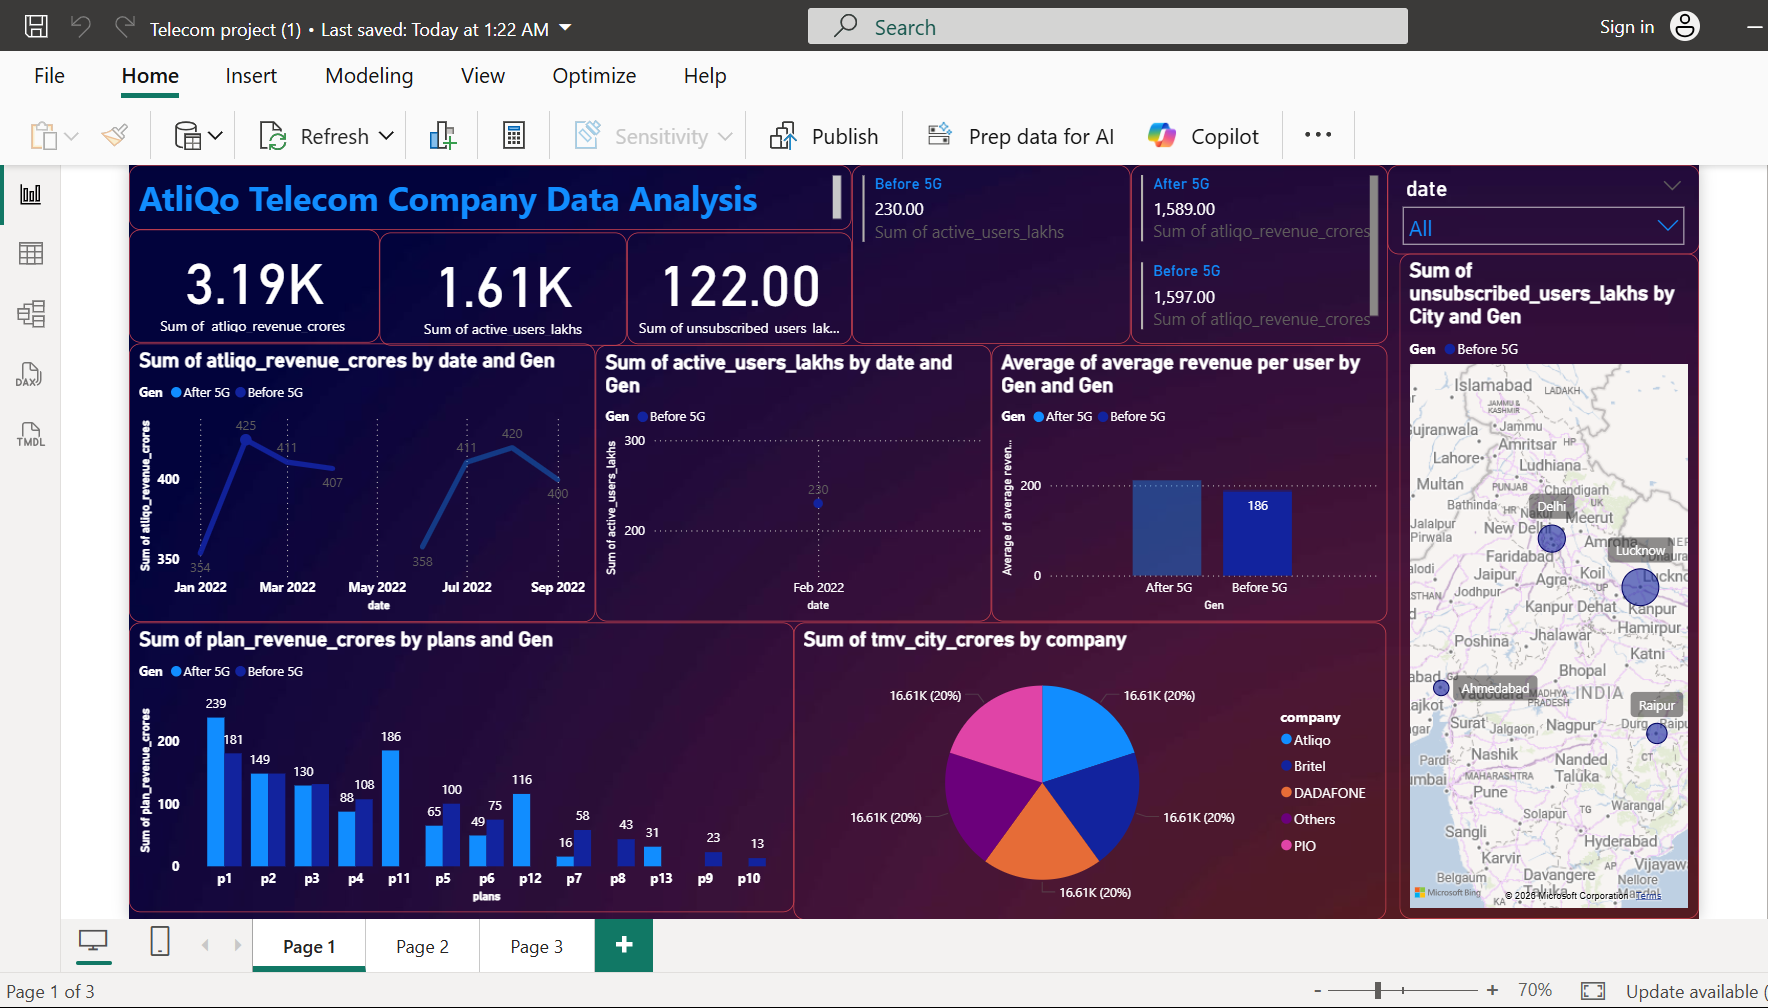

The page's visual inventory and layout, read from the dashboard file:
{"tool":"powerbi","page":{"name":"Page 1","canvas":[1500,720],"ordinal":0},"visuals":[{"type":"textbox","box":[0,0,690.3,62.1],"z":0},{"type":"lineChart","fields":{"Y":["Sum(Active vs unactive users.active_users_lakhs)"],"Series":["Active vs unactive users.Gen"],"Category":["Active vs unactive users.date"]},"box":[445.5,171.9,378.2,264.1],"z":1000},{"type":"multiRowCard","fields":{"Values":["Sum(Active vs unactive users.active_users_lakhs)","Active vs unactive users.Gen"]},"box":[690.8,0,265.7,170.4],"z":2000},{"type":"columnChart","fields":{"Category":["Active vs unactive users.Gen"],"Y":["Avg(Active vs unactive users.average revenue per user)"],"Series":["Active vs unactive users.Gen"]},"box":[823.7,171.9,378.2,264.1],"z":3000},{"type":"lineChart","fields":{"Category":["Active vs unactive users.date"],"Y":["Sum(Active vs unactive users. atliqo_revenue_crores )"],"Series":["Active vs unactive users.Gen"]},"box":[0,170.4,445.5,265.7],"z":4000},{"type":"multiRowCard","fields":{"Values":["Active vs unactive users.Gen","Sum(Active vs unactive users. atliqo_revenue_crores )"]},"box":[956.5,0,245.4,170.4],"z":5000},{"type":"map","fields":{"Category":["Active vs unactive users.City"],"Size":["Sum(Active vs unactive users.unsubscribed_users_lakhs)"],"Series":["Active vs unactive users.Gen"]},"box":[1213.7,85.2,285.7,635.3],"z":6000},{"type":"clusteredColumnChart","fields":{"Category":["Plan csv.plans"],"Y":["Sum(Plan csv.plan_revenue_crores)"],"Series":["Plan csv.Gen"]},"box":[0,436.5,635.3,276.8],"z":7000},{"type":"pieChart","fields":{"Category":["Before 5G vs After 5G.company"],"Y":["Sum(Before 5G vs After 5G. tmv_city_crores )"]},"box":[635.3,436.5,566.1,283.9],"z":9000},{"type":"card","fields":{"Values":["Sum(Active vs unactive users. atliqo_revenue_crores )"]},"box":[0,62.1,239.6,108.2],"z":10000},{"type":"card","fields":{"Values":["Sum(Active vs unactive users.active_users_lakhs)"]},"box":[239.6,63.9,236,108.2],"z":11000},{"type":"card","fields":{"Values":["Sum(Active vs unactive users.unsubscribed_users_lakhs)"]},"box":[475.6,63.9,214.7,106.5],"z":12000},{"type":"slicer","fields":{"Values":["Active vs unactive users.date"]},"box":[1201.3,0,298.1,85.2],"z":13000}]}

Visuals, with their boxes on the page's 1500x720 design canvas (x1, y1, x2, y2). These are canvas units, not pixel positions in the 1768x1008 screenshot, which may show the page scaled, cropped or inside an application window:
textbox: bbox=(0, 0, 690, 62)
lineChart - Sum(Active vs unactive users.active_users_lakhs) x Active vs unactive users.Gen: bbox=(446, 172, 824, 436)
multiRowCard - Sum(Active vs unactive users.active_users_lakhs) x Active vs unactive users.Gen: bbox=(691, 0, 956, 170)
columnChart - Active vs unactive users.Gen x Avg(Active vs unactive users.average revenue per user): bbox=(824, 172, 1202, 436)
lineChart - Active vs unactive users.date x Sum(Active vs unactive users. atliqo_revenue_crores ): bbox=(0, 170, 446, 436)
multiRowCard - Active vs unactive users.Gen x Sum(Active vs unactive users. atliqo_revenue_crores ): bbox=(956, 0, 1202, 170)
map - Active vs unactive users.City x Sum(Active vs unactive users.unsubscribed_users_lakhs): bbox=(1214, 85, 1499, 720)
clusteredColumnChart - Plan csv.plans x Sum(Plan csv.plan_revenue_crores): bbox=(0, 436, 635, 713)
pieChart - Before 5G vs After 5G.company x Sum(Before 5G vs After 5G. tmv_city_crores ): bbox=(635, 436, 1201, 720)
card - Sum(Active vs unactive users. atliqo_revenue_crores ): bbox=(0, 62, 240, 170)
card - Sum(Active vs unactive users.active_users_lakhs): bbox=(240, 64, 476, 172)
card - Sum(Active vs unactive users.unsubscribed_users_lakhs): bbox=(476, 64, 690, 170)
slicer - Active vs unactive users.date: bbox=(1201, 0, 1499, 85)
